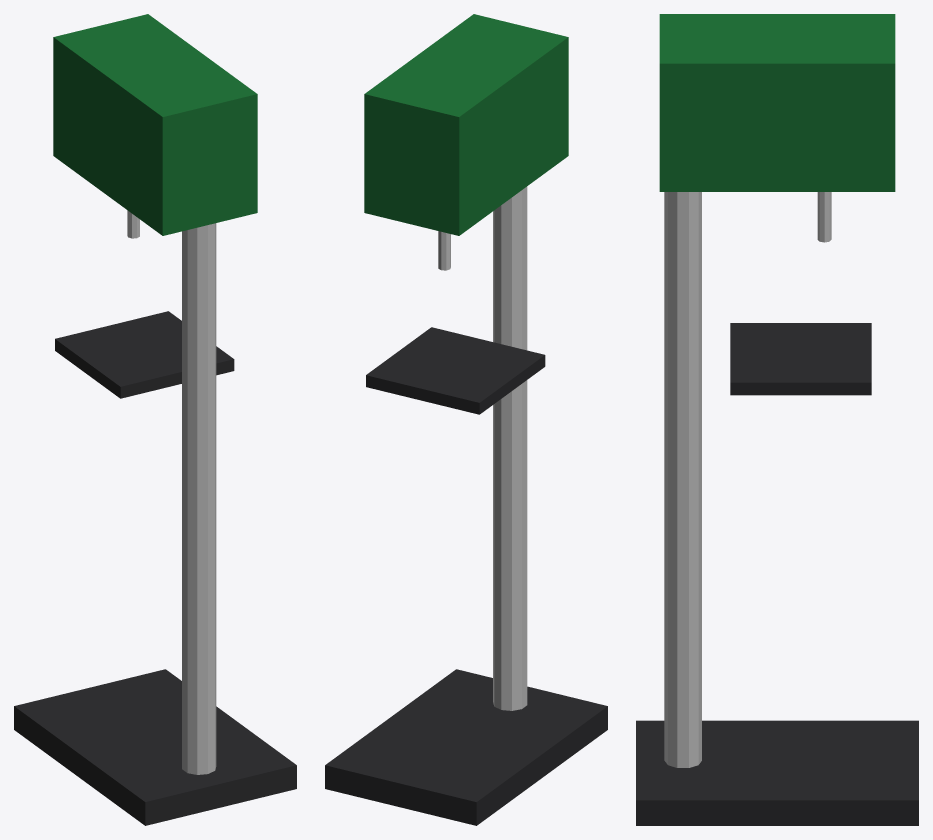
File: industrial.machine.pillar_drill.glb
3 renders of one model, left to right at view 1: azimuth 30°, elevation 25°; view 2: azimuth 150°, elevation 25°; view 3: azimuth 270°, elevation 25°, orthographic. The views are drawn at different scales.
Parts seen in each view (by area): view 1: main__plastic_green, main__cast_iron, main__steel_stainless; view 2: main__cast_iron, main__plastic_green, main__steel_stainless; view 3: main__plastic_green, main__cast_iron, main__steel_stainless.
Part boxes in pixels (x1=…): main__plastic_green: x1=53, y1=14, x2=257, y2=235; main__cast_iron: x1=14, y1=311, x2=296, y2=825; main__steel_stainless: x1=127, y1=210, x2=216, y2=774; main__cast_iron: x1=325, y1=327, x2=607, y2=825; main__plastic_green: x1=364, y1=14, x2=568, y2=235; main__steel_stainless: x1=438, y1=186, x2=527, y2=710; main__plastic_green: x1=659, y1=14, x2=895, y2=191; main__cast_iron: x1=636, y1=323, x2=918, y2=825; main__steel_stainless: x1=664, y1=192, x2=831, y2=767.
Bounding box in the file's own units: 0.4 × 1.75 × 0.6.
